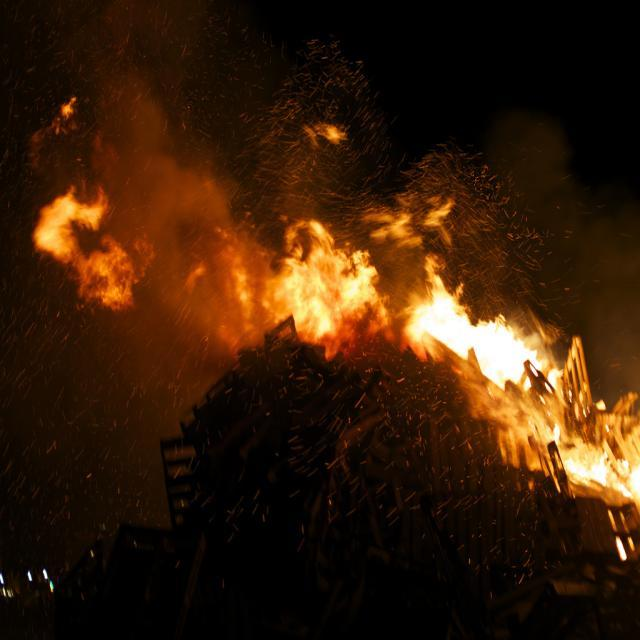Fire: (286, 272, 364, 332), (484, 330, 528, 382), (38, 211, 74, 253), (420, 308, 460, 339)
